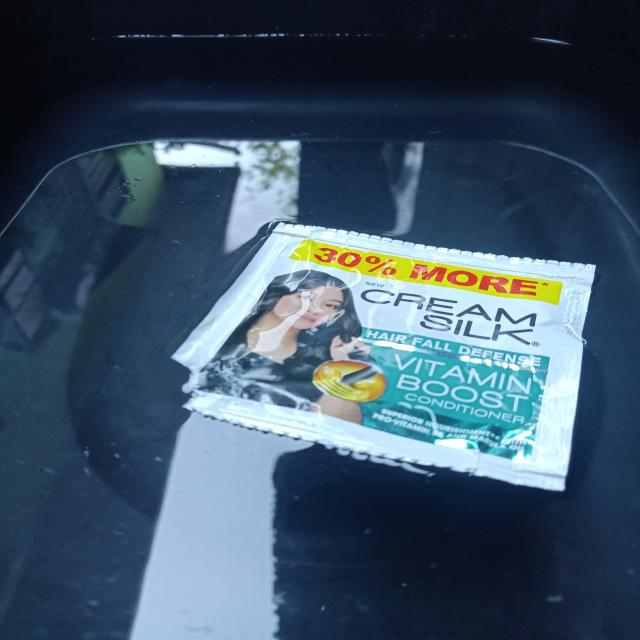Plastic Wrapper: (173, 221, 595, 491)
